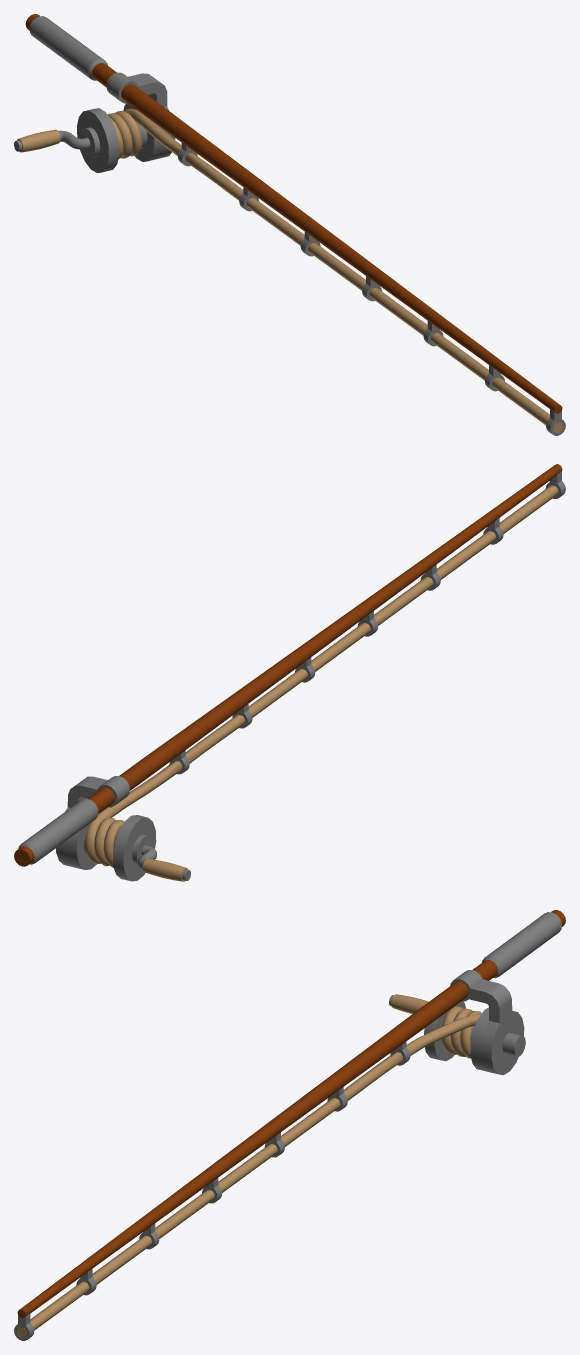
Rendered from fishing_rod_01.fbx.
3 renders of one model, top to bottom at view 1: azimuth 30°, elevation 25°; view 2: azimuth 150°, elevation 25°; view 3: azimuth 330°, elevation 25°, orthographic. The views are drawn at different scales.
Parts seen in each view (by area): view 1: fishing_rod_01; view 2: fishing_rod_01; view 3: fishing_rod_01.
Part boxes in pixels (x1,y1,x2,y2): fishing_rod_01: [14, 14, 565, 435]; fishing_rod_01: [14, 464, 565, 881]; fishing_rod_01: [14, 910, 565, 1340].
Bounding box in the file's own units: 28.54 × 17.21 × 185.
